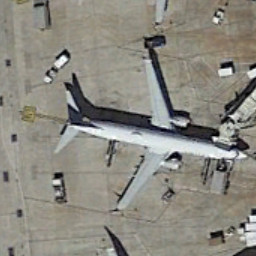Airplane: (43, 50, 251, 222)
